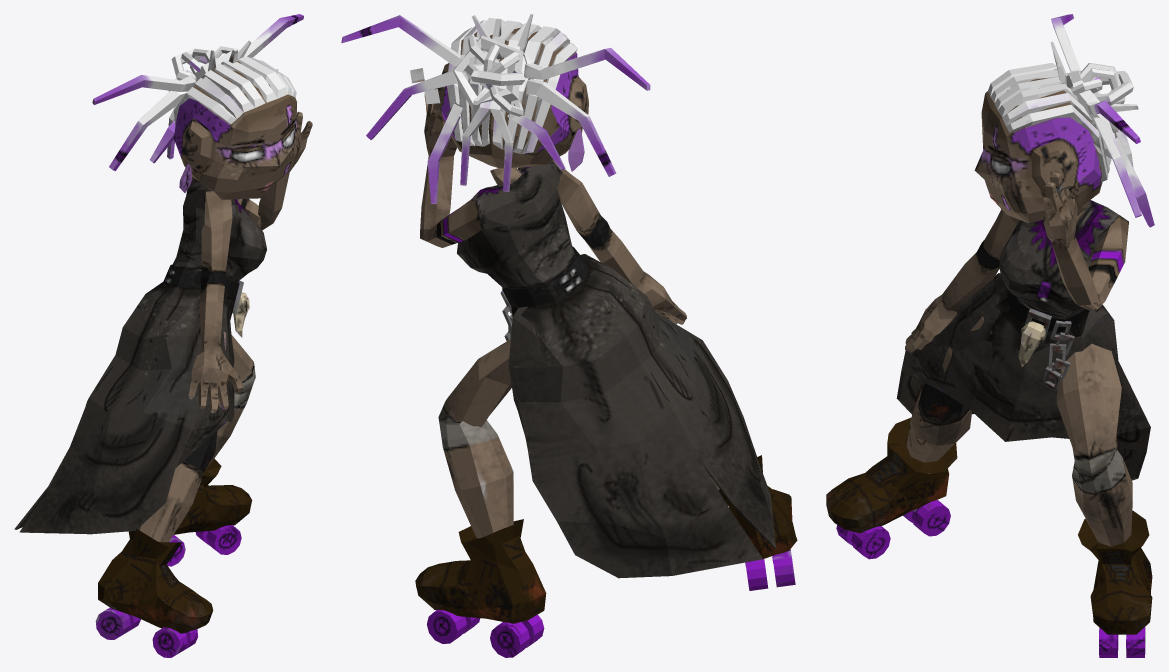
File: bruja_000062.obj
The picture shows the model from 3 angles, left to right: view 1: azimuth 30°, elevation 25°; view 2: azimuth 150°, elevation 25°; view 3: azimuth 270°, elevation 25°; orthographic projection. The views are drawn at different scales.
Visible parts, largest first — view 1: Bruja_Plane.001; view 2: Bruja_Plane.001; view 3: Bruja_Plane.001.
Part boxes in pixels (box(x1,y1,x2,y2)): Bruja_Plane.001: box(14, 14, 312, 657); Bruja_Plane.001: box(341, 14, 797, 657); Bruja_Plane.001: box(826, 14, 1154, 657).
Bounding box in the file's own units: 10.12 × 15.41 × 7.72.
